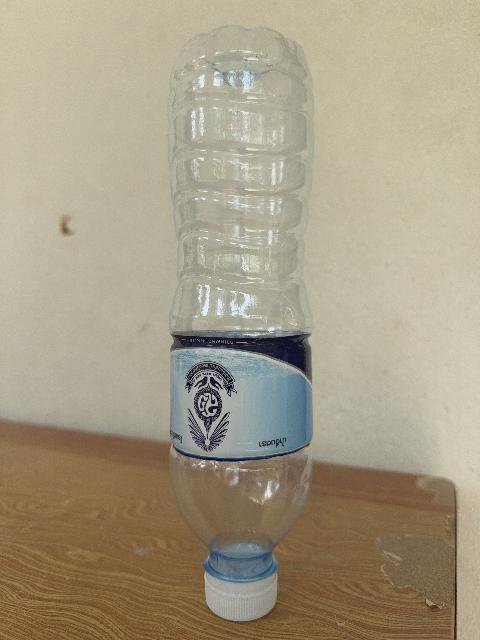bottle: (169, 27, 313, 620)
